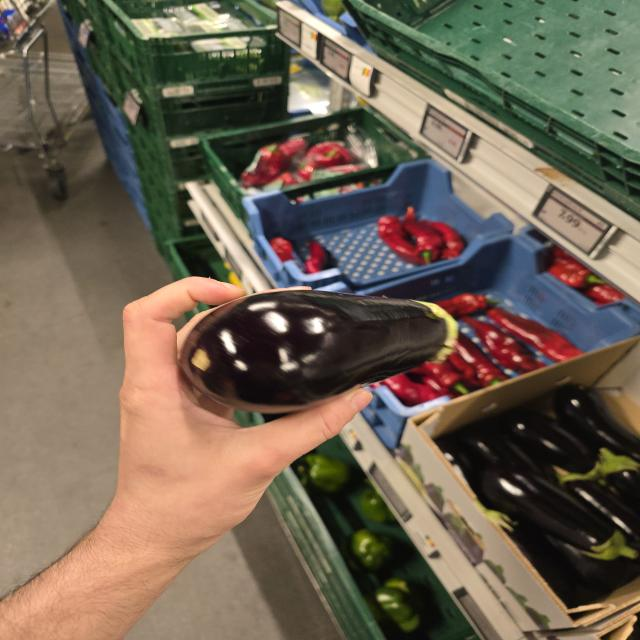Eggplant: (179, 289, 459, 413)
